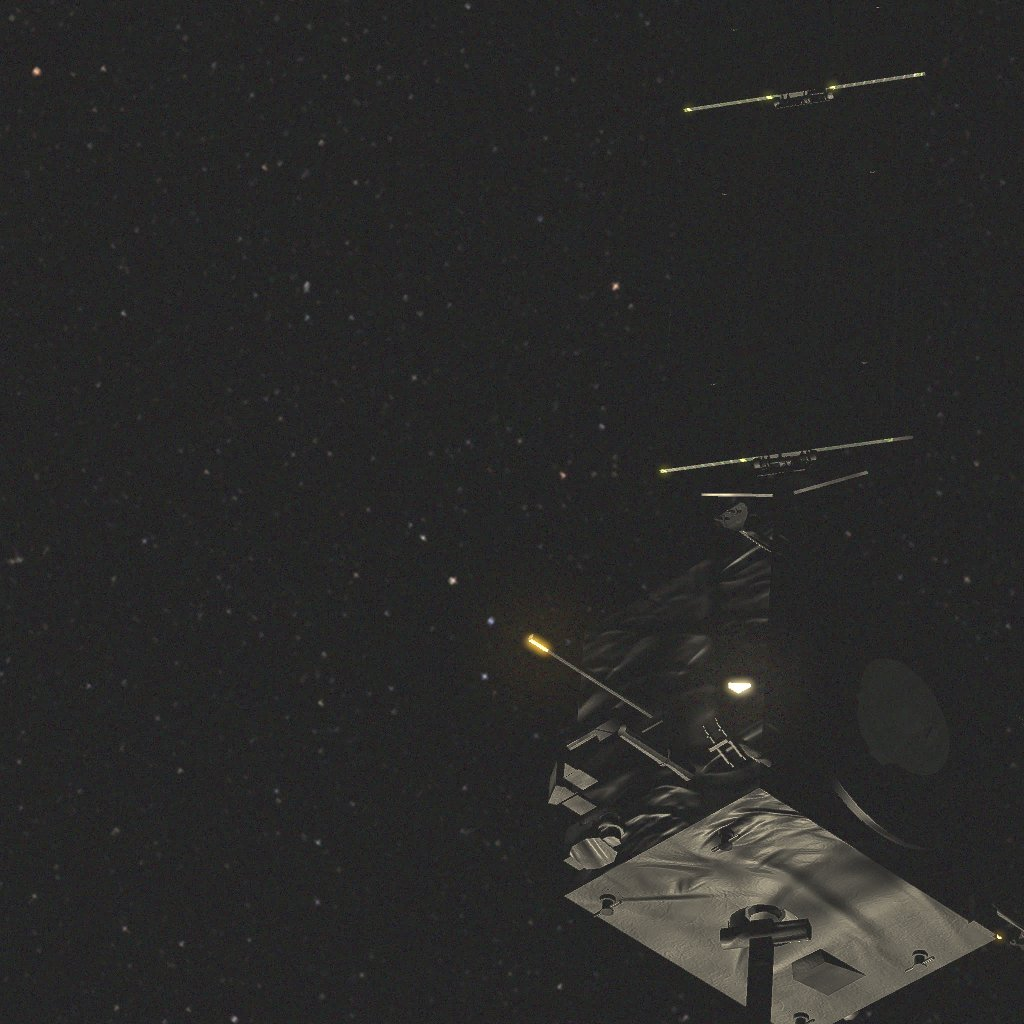smart_1: (528, 0, 1024, 1024)
